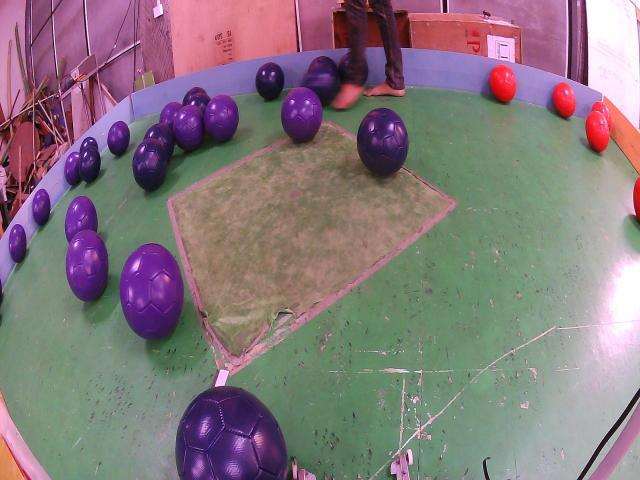jambhalya: (120, 243, 184, 340), (66, 230, 109, 302), (281, 87, 322, 142), (204, 93, 239, 142), (65, 195, 98, 242), (172, 105, 204, 152), (108, 120, 130, 155), (32, 188, 50, 225), (9, 223, 26, 262), (159, 102, 182, 128), (64, 152, 81, 185)
kaalyya: (175, 387, 288, 480), (358, 108, 409, 175), (132, 138, 168, 190), (144, 122, 175, 162), (255, 62, 285, 100), (79, 147, 101, 182), (188, 93, 211, 113), (182, 87, 206, 106), (79, 137, 98, 153)
